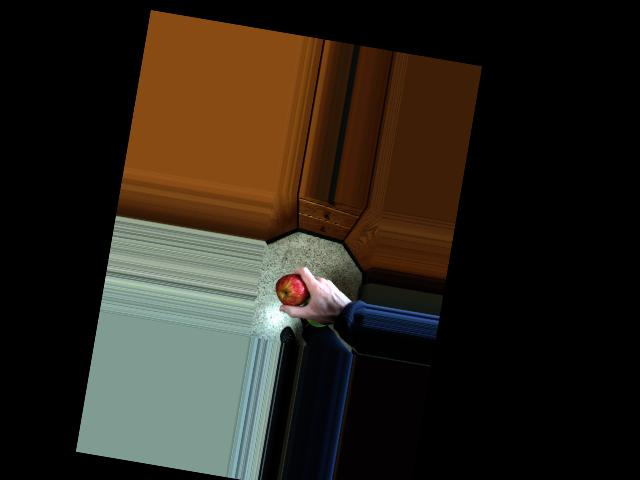apple: (271, 269, 317, 314)
